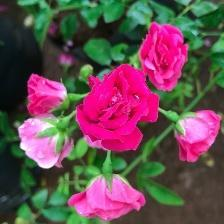rose: (77, 64, 160, 155)
